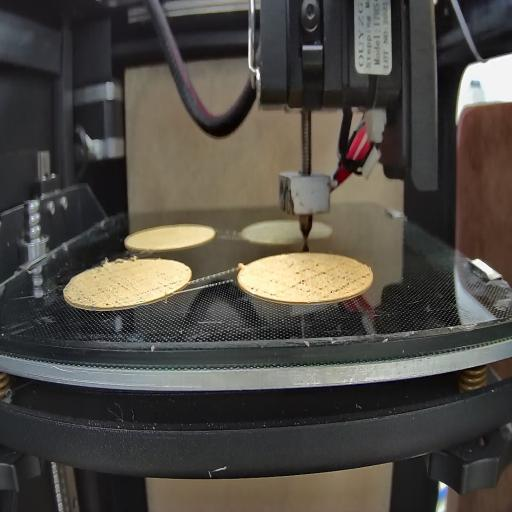under_extrusion: (291, 258, 368, 295), (76, 275, 134, 306), (248, 278, 278, 302), (144, 280, 184, 295)
